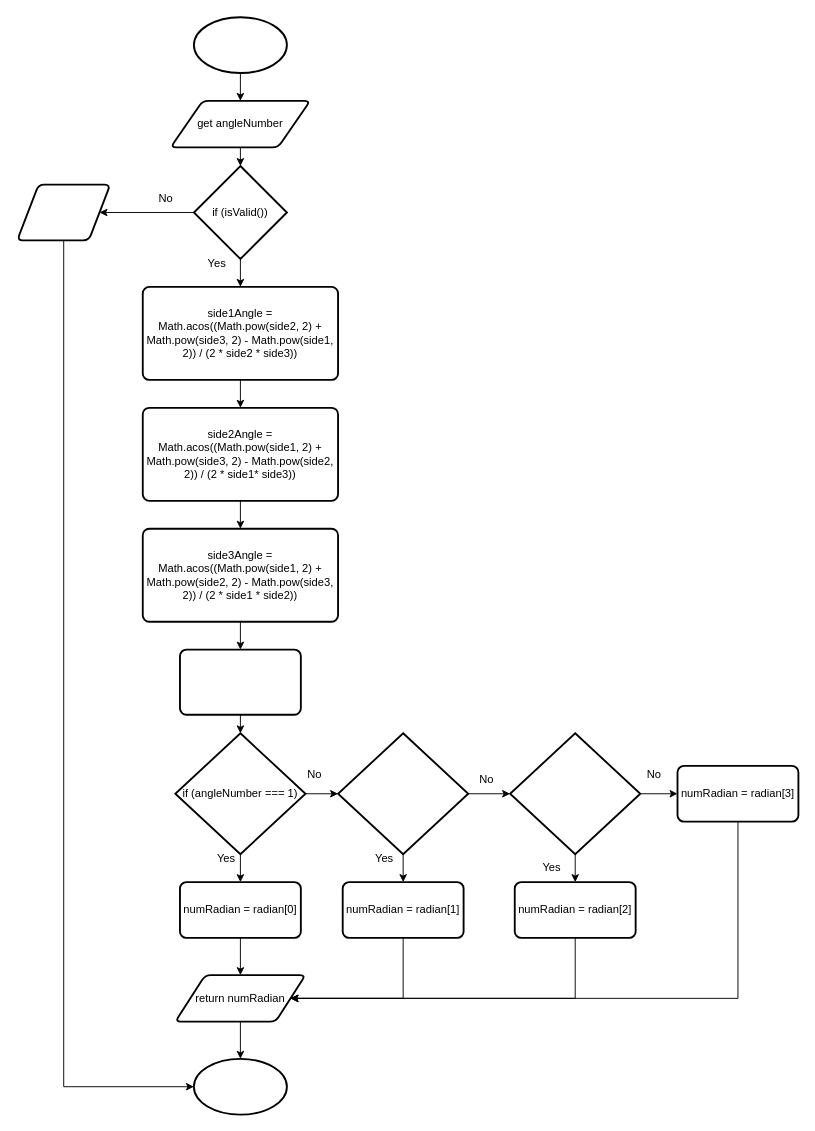
The diagram is 815 pixels wide and 1131 high, and some of its shapes have lost their labels. The shapes that lost their labels are listed below. From the top down, each one's centre as x and y in pixels, then its label:
the point at 240,44: Start
the point at 63,212: return -1
the point at 240,681: radian = [side1Angle, side2Angle, side3Angle, -1]
the point at 403,793: if (angleNumber === 2)
the point at 575,793: if (angleNumber === 3)
the point at 240,1086: Stop
